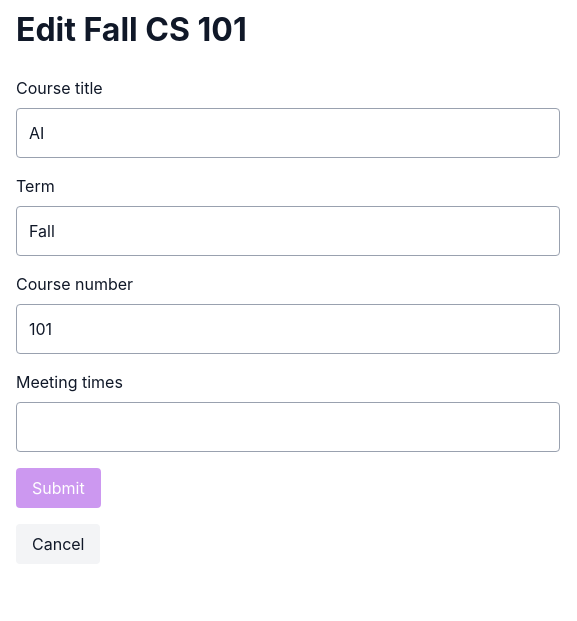
it: keeps the draft on a failed save and allows retry
Replace the text in the field labelled "Course title" with "New title": (288, 133) [16, 108, 560, 158]
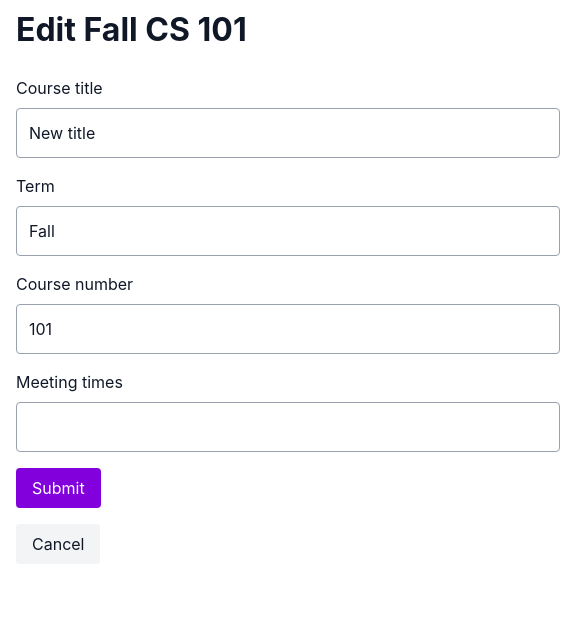
Click the button "Submit": (58, 488) [16, 468, 101, 508]
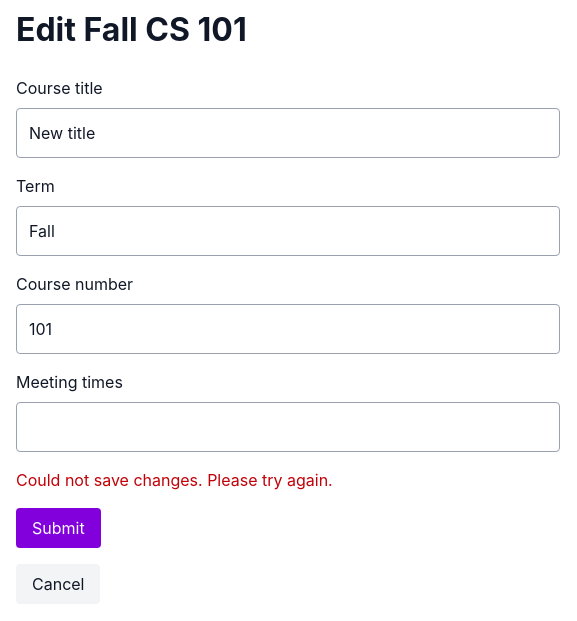
Result: the button "Submit" is enabled at [16, 508, 101, 548]
Result: the message shows "Could not save changes" at [16, 470, 333, 490]
